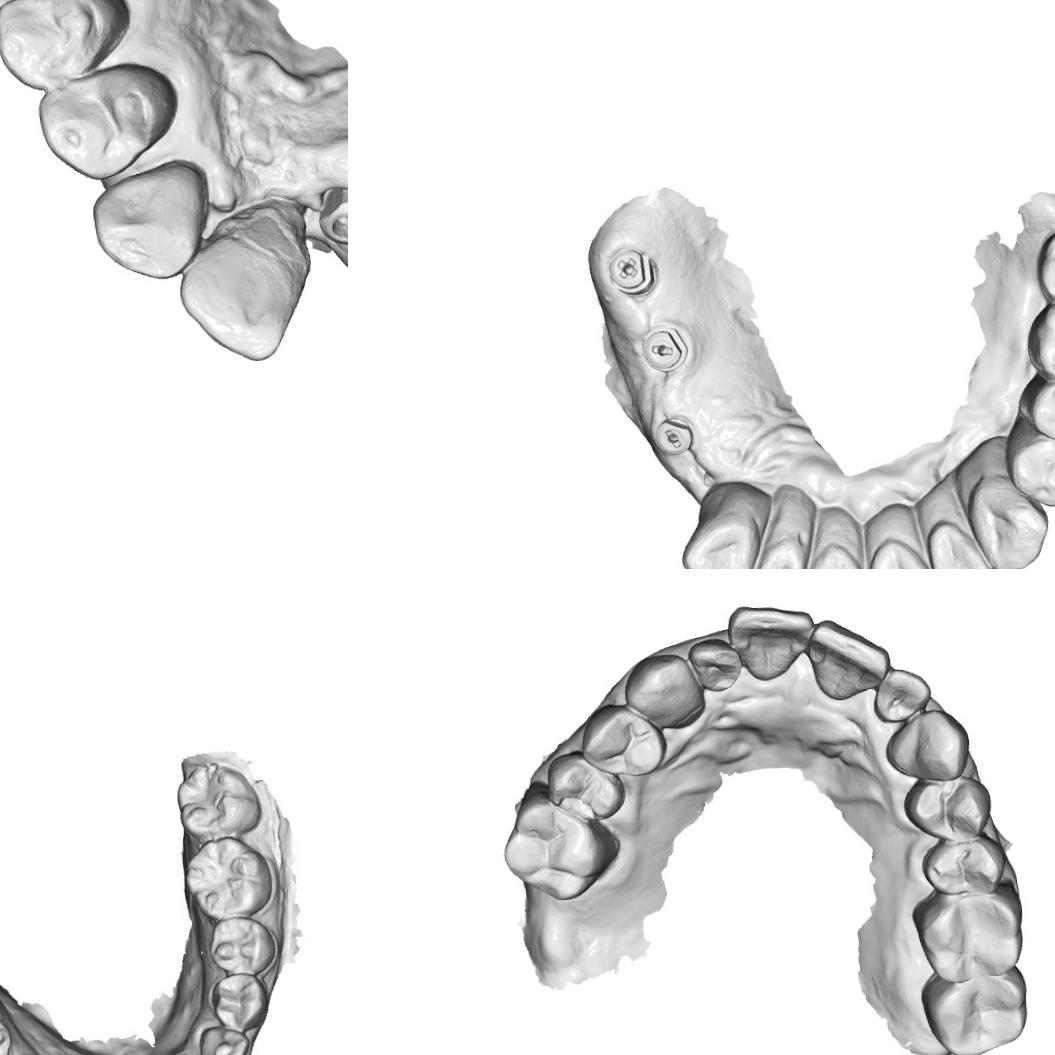canine: (87, 160, 214, 283), (963, 473, 1049, 569), (880, 708, 971, 784), (621, 651, 705, 731), (676, 501, 754, 569), (196, 1025, 252, 1055)
implant: (314, 186, 348, 248)
implant_minus: (636, 322, 689, 378), (652, 413, 695, 456)
implant_plus: (606, 247, 660, 295)
incisor: (175, 213, 308, 365), (806, 617, 892, 708), (728, 602, 815, 684), (872, 664, 934, 728), (927, 518, 999, 569), (686, 637, 741, 697), (863, 534, 947, 569), (740, 538, 806, 569), (791, 545, 870, 569)
molar: (504, 798, 615, 904), (909, 886, 1027, 984), (919, 965, 1030, 1055), (186, 836, 270, 920), (173, 762, 263, 837), (1027, 300, 1055, 389), (1032, 225, 1055, 309)
premolar: (34, 61, 180, 181), (0, 0, 137, 93), (580, 700, 667, 782), (903, 774, 993, 846), (540, 750, 626, 823), (920, 837, 1006, 896), (1005, 432, 1055, 511), (212, 914, 272, 975), (212, 974, 272, 1030), (1026, 377, 1055, 448)
